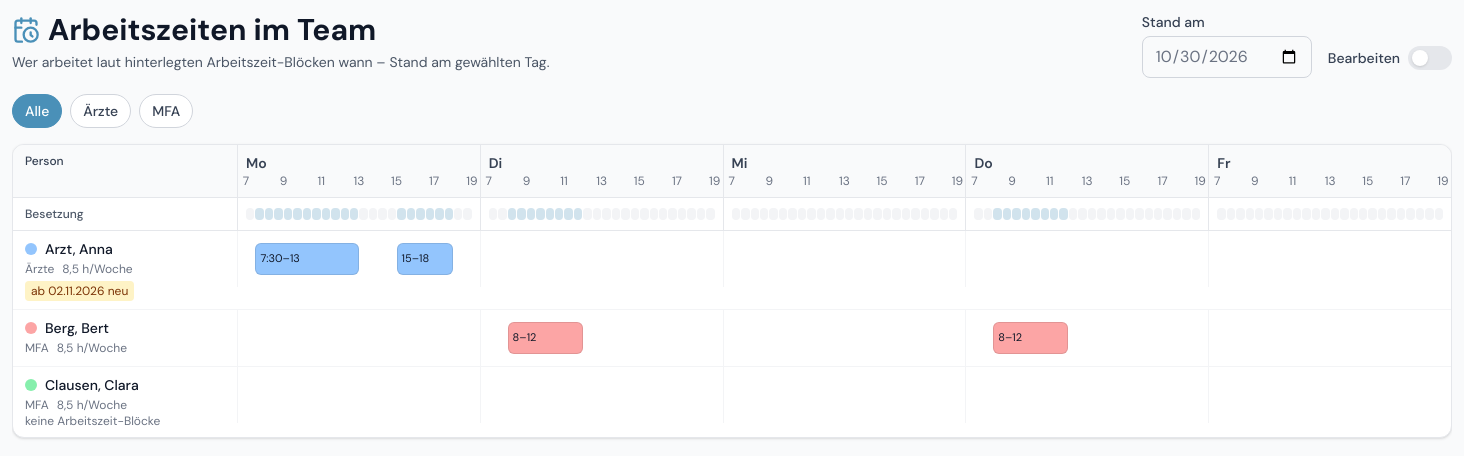
Teamübersicht der Arbeitszeiten › fällt auf „Alle" zurück, wenn die gewählte Abteilung nach dem Neuladen fehlt
The image size is (1464, 456).
expect the text "Arzt, Anna" is shown: met, box 45,239 -> 113,259
Click the button "MFA" at (166, 111), box 139,94 -> 193,128
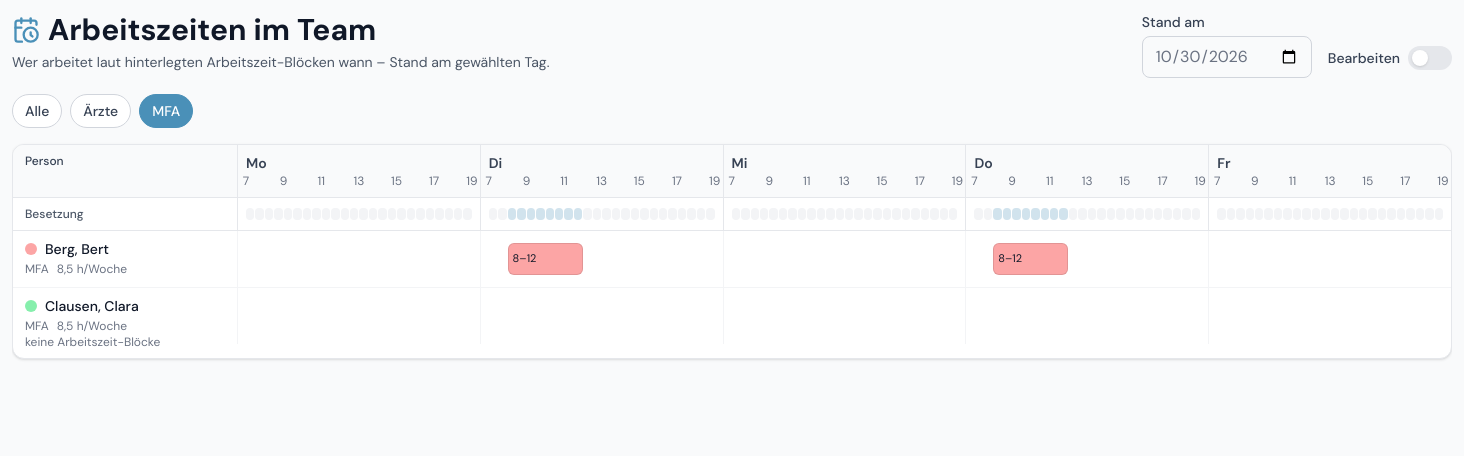
Type "2026-11-02" into the date field labelled "Stand am" at (1227, 57), box 1142,36 -> 1312,78
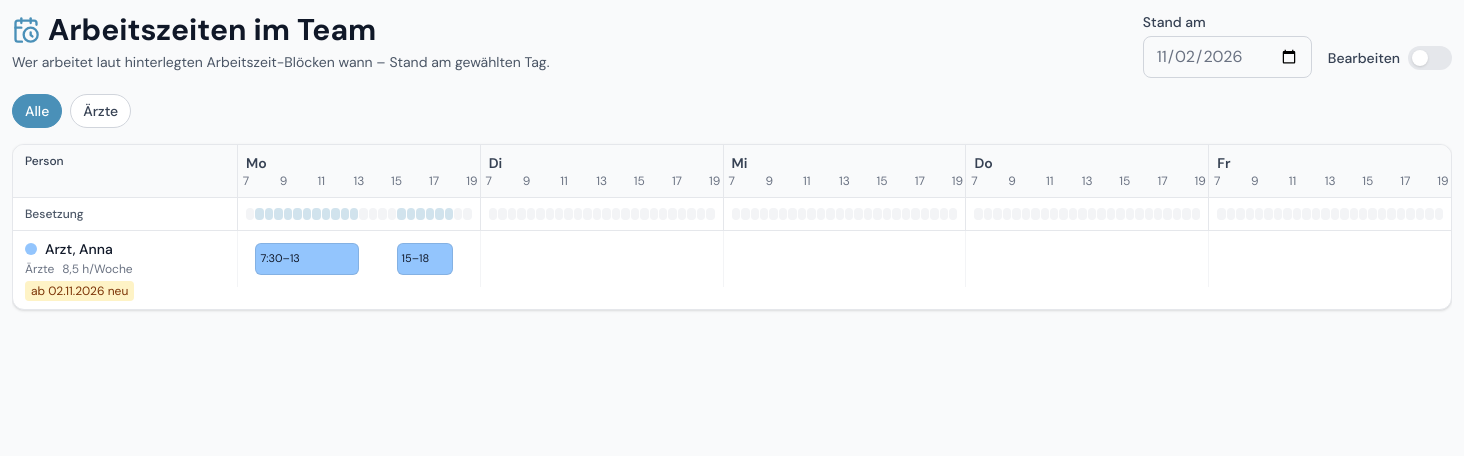
expect the text "Arzt, Anna" is shown: met, box 45,239 -> 113,259
